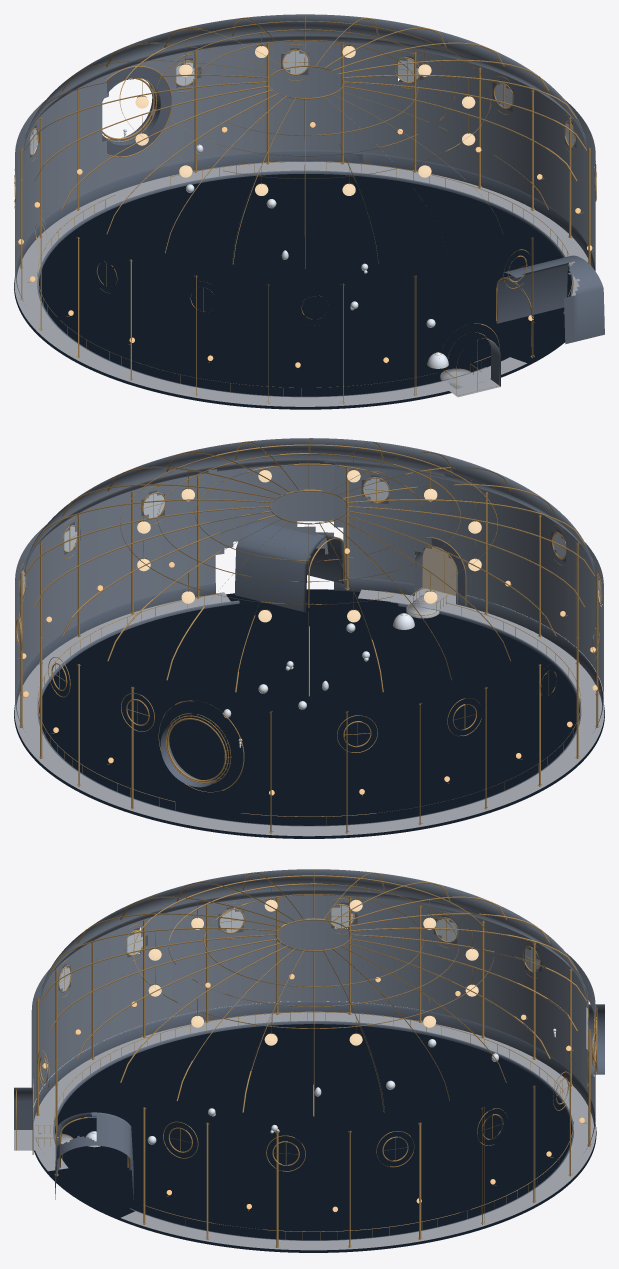
File: platform.glb
3 views of the same model, one above another, from view 1: azimuth 30°, elevation 25°; view 2: azimuth 150°, elevation 25°; view 3: azimuth 270°, elevation 25° (orthographic). The views are drawn at different scales.
Visible parts, largest first — view 1: platform.water, platform.plaster.002, platform.plaster.003, platform.stone.001, platform.plaster.001, platform.plaster_dark.001, platform.brass.003, platform.plaster.006, platform.plaster_dark.004, platform.brass.005, platform.brass.001, platform.plaster_dark.005 (+15 smaller); view 2: platform.water, platform.plaster.002, platform.plaster.004, platform.plaster.005, platform.plaster.008, platform.stone.001, platform.plaster_dark.001, platform.plaster.006, platform.brass.003, platform.plaster_dark.005, platform.brass.001, platform.brass.002 (+15 smaller); view 3: platform.water, platform.plaster.001, platform.plaster_dark.002, platform.stone.001, platform.brass.003, platform.brass.005, platform.brass.001, platform.brass.002, platform.plaster.004, platform.stone.003, platform.stone.004, platform.windows (+12 smaller).
Boxes of the visible parts, x1,y1,x2,y2 form: platform.water: [14, 174, 571, 409]; platform.plaster.002: [343, 18, 595, 270]; platform.plaster.003: [144, 14, 361, 164]; platform.stone.001: [14, 178, 417, 406]; platform.plaster.001: [15, 87, 102, 280]; platform.plaster_dark.001: [353, 56, 596, 323]; platform.brass.003: [283, 18, 595, 321]; platform.plaster.006: [45, 16, 366, 129]; platform.plaster_dark.004: [147, 48, 374, 185]; platform.brass.005: [98, 48, 596, 272]; platform.brass.001: [14, 46, 181, 360]; platform.plaster_dark.005: [353, 284, 604, 395]; platform.water: [14, 589, 604, 838]; platform.plaster.002: [15, 446, 233, 708]; platform.plaster.004: [439, 453, 565, 638]; platform.plaster.005: [324, 461, 448, 594]; platform.plaster.008: [173, 467, 333, 554]; platform.stone.001: [162, 613, 604, 836]; platform.plaster_dark.001: [15, 490, 310, 741]; platform.plaster.006: [173, 438, 452, 480]; platform.brass.003: [15, 447, 311, 767]; platform.plaster_dark.005: [307, 531, 527, 640]; platform.brass.001: [218, 540, 594, 833]; platform.brass.002: [368, 458, 602, 737]; platform.water: [34, 1024, 596, 1252]; platform.plaster.001: [80, 869, 586, 1082]; platform.plaster_dark.002: [46, 902, 604, 1095]; platform.stone.001: [35, 1012, 595, 1130]; platform.brass.003: [127, 979, 568, 1247]; platform.brass.005: [46, 877, 441, 1158]; platform.brass.001: [239, 869, 596, 1096]; platform.brass.002: [36, 881, 244, 1122]; platform.plaster.004: [31, 939, 75, 1105]; platform.stone.003: [121, 1211, 464, 1250]; platform.stone.004: [453, 1131, 595, 1231]; platform.windows: [59, 905, 539, 990].
Bounding box in the file's own units: 53.89 × 23.94 × 56.28.
